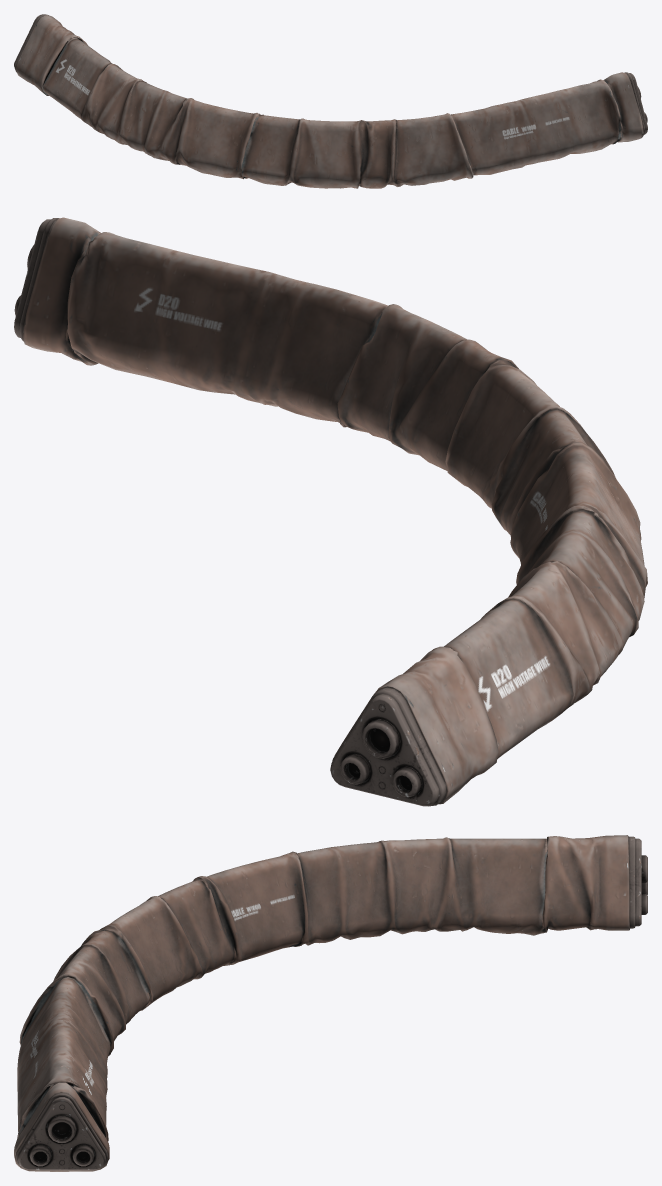
File: SM_Wire01_Corner.fbx
The picture shows the model from 3 angles, top to bottom: view 1: azimuth 30°, elevation 25°; view 2: azimuth 150°, elevation 25°; view 3: azimuth 270°, elevation 25°; orthographic projection. The views are drawn at different scales.
Parts seen in each view (by area): view 1: SM_Wire01_Corner_LOD0; view 2: SM_Wire01_Corner_LOD0; view 3: SM_Wire01_Corner_LOD0.
Boxes of the visible parts, x1=… form: SM_Wire01_Corner_LOD0: x1=14, y1=14, x2=647, y2=188; SM_Wire01_Corner_LOD0: x1=14, y1=217, x2=647, y2=806; SM_Wire01_Corner_LOD0: x1=14, y1=835, x2=647, y2=1171.
Bounding box in the file's own units: 133 × 126 × 20.22.
1 material, 1 textured.
